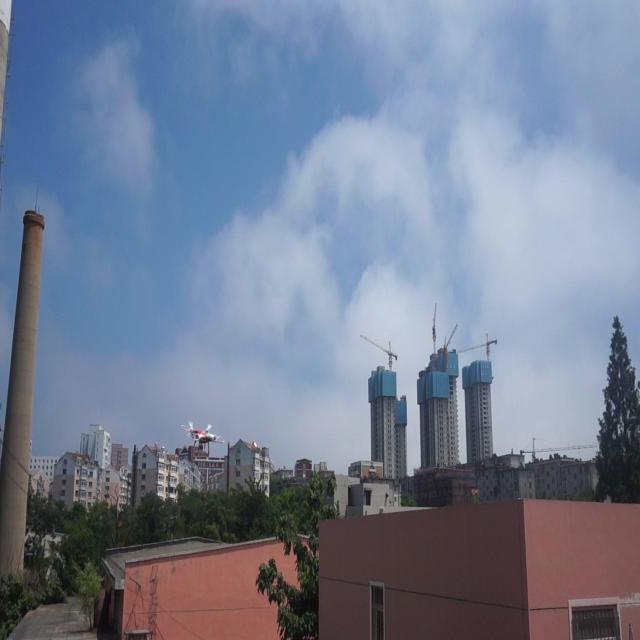drone: (178, 420, 228, 474)
